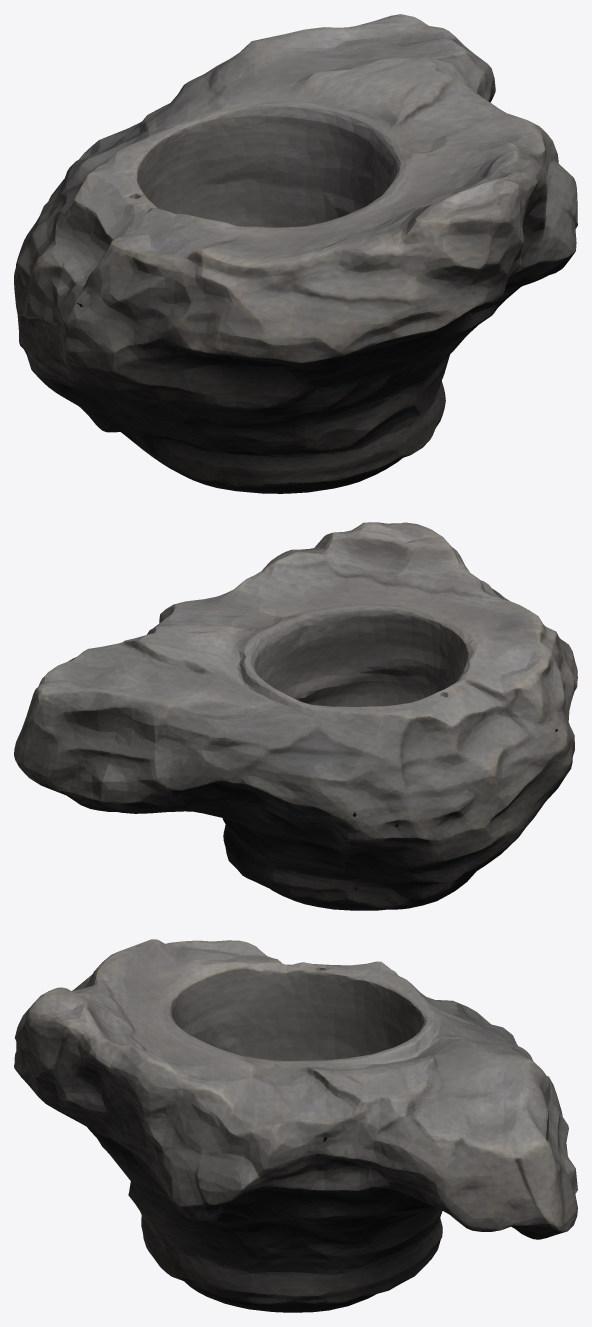
The picture shows the model from 3 angles, top to bottom: view 1: azimuth 30°, elevation 25°; view 2: azimuth 150°, elevation 25°; view 3: azimuth 270°, elevation 25°; orthographic projection. The views are drawn at different scales.
Visible parts, largest first — view 1: world; view 2: world; view 3: world.
Part boxes in pixels (box(x1,y1,x2,y2)): world: box(14, 14, 577, 493); world: box(14, 522, 577, 910); world: box(14, 939, 577, 1312).
Size of the model in its own units: 0.9965 by 0.5687 by 0.9906.
1 material, 1 textured.
